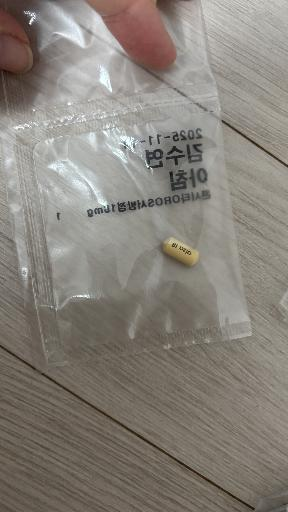Concerta: (0, 0, 251, 370), (163, 237, 199, 266)
